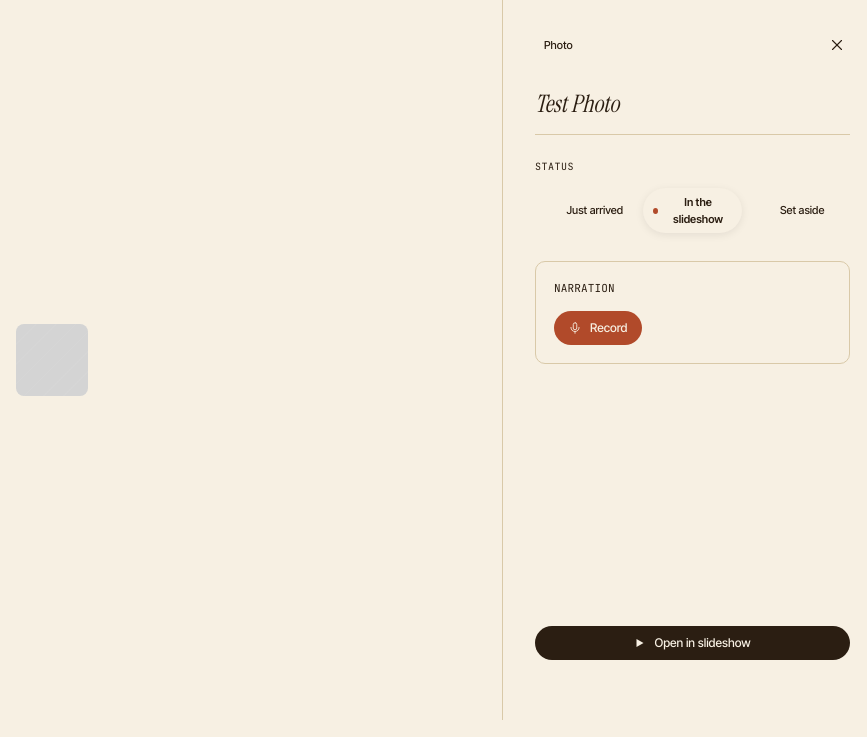
Test: EntryEditor › Autosave behavior › shows "✓ Saved" after successful save
Step 1. Replace the text in the field named "title" with "New Title" → (692, 108), box x1=535 y1=82 x2=850 y2=135
Wait 1000 ms
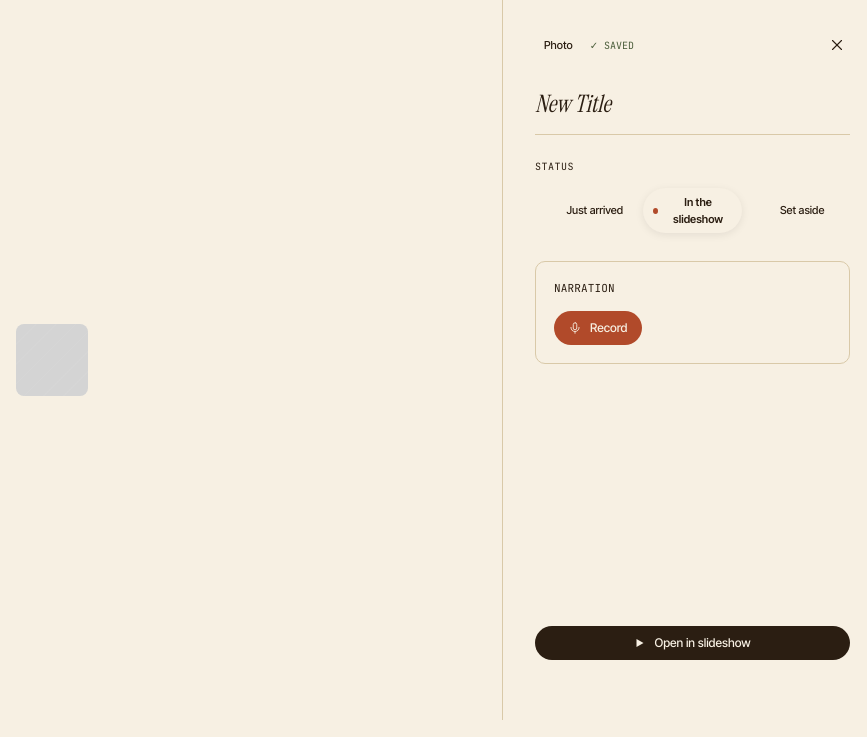
Expected: the text "✓ Saved" is shown, x1=590 y1=38 x2=634 y2=52
